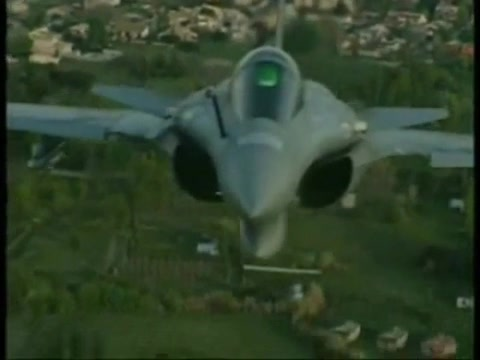aeroplane: (9, 1, 475, 259)
